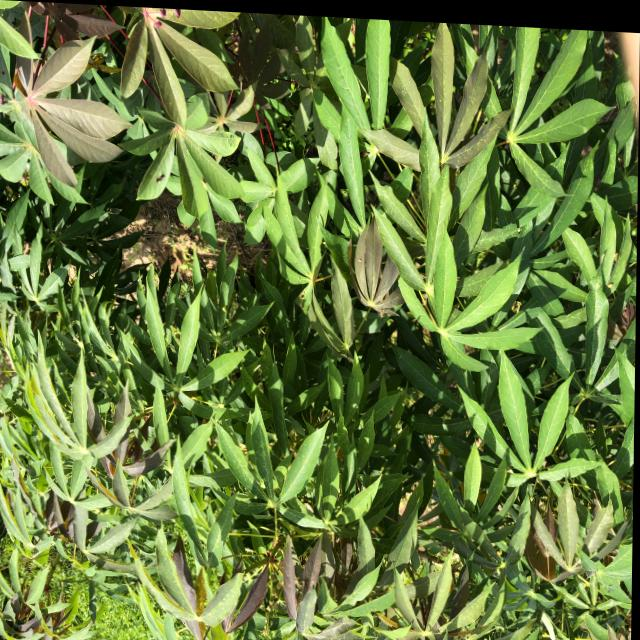Mosca: (138, 166, 169, 189), (355, 252, 368, 270)
